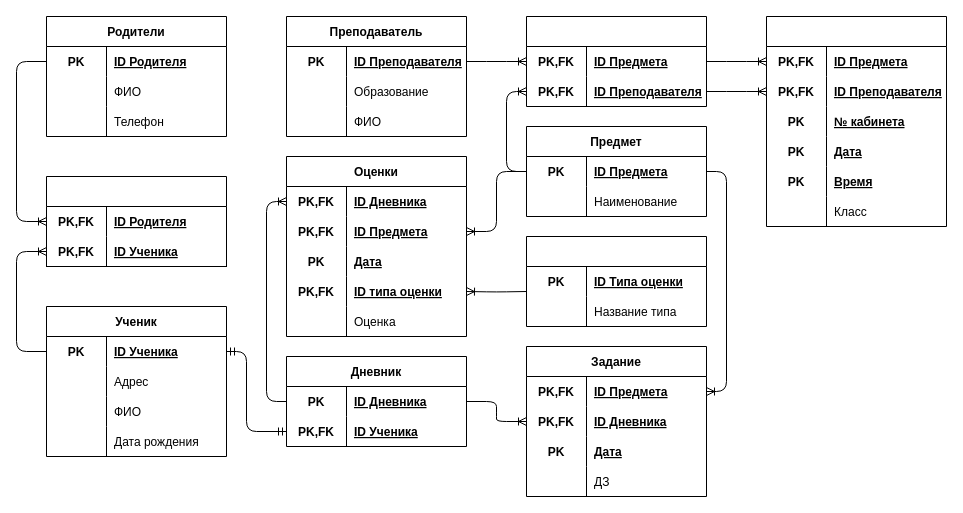
Image size: 963x513. Some labels were removed from this diagram. Here are the shapes that lost their labels. From the top down, the box of each, then its label:
(526, 16, 706, 106): Предмет-Преподаватель
(766, 16, 946, 226): Расписание
(46, 176, 226, 266): Родитель-Ученик
(526, 236, 706, 326): Типы оценок
